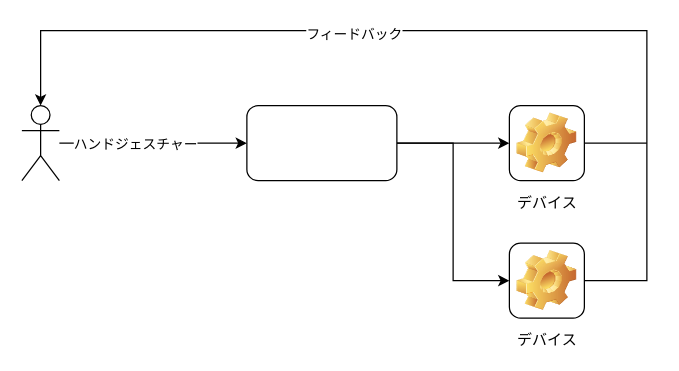
Image size: 679x371. Some labels were removed from this diagram. The centre of each missing label's shape, as x and y in pixels:
"Actor" goes at pixel 40 142.
"SYSTEM" goes at pixel 321 142.
